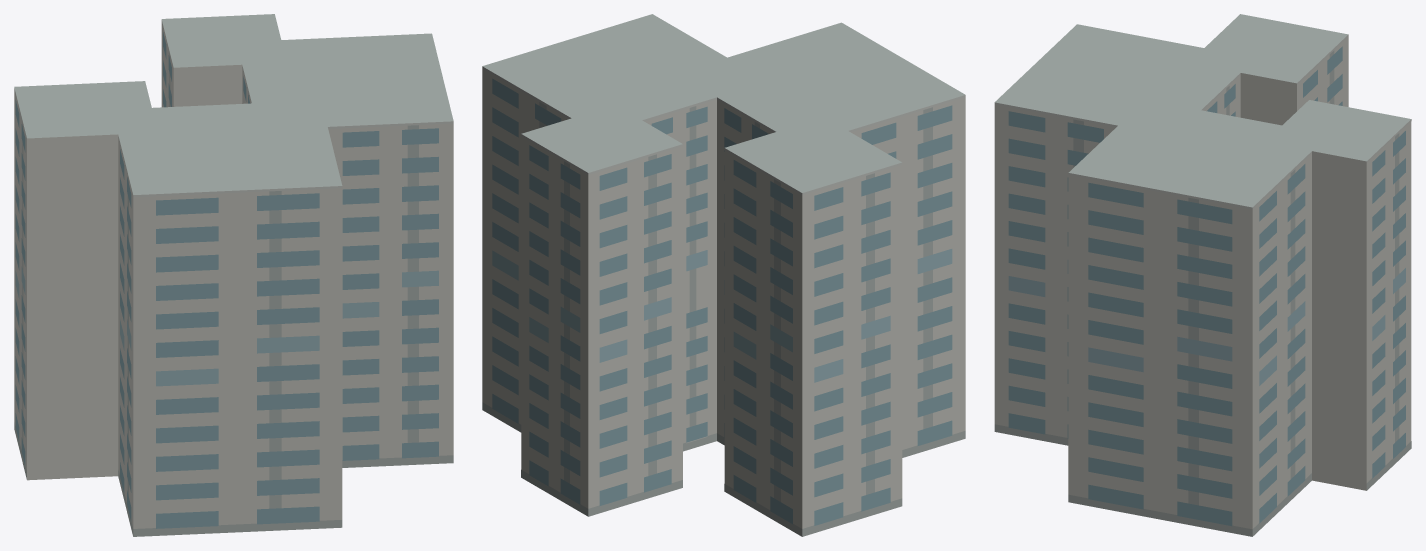
Rendered from residential-6af18a1a-1f4b-40ea-b218-25f086b3e3f5.glb.
3 views of the same model, side by side, from view 1: azimuth 30°, elevation 25°; view 2: azimuth 150°, elevation 25°; view 3: azimuth 270°, elevation 25° (orthographic). The views are drawn at different scales.
Parts seen in each view (by area): view 1: residential-6af18a1a-1f4b-40ea-b218-25f086b3e3f5.tmp; view 2: residential-6af18a1a-1f4b-40ea-b218-25f086b3e3f5.tmp; view 3: residential-6af18a1a-1f4b-40ea-b218-25f086b3e3f5.tmp.
Boxes of the visible parts, box(x1,y1,x2,y2) form: residential-6af18a1a-1f4b-40ea-b218-25f086b3e3f5.tmp: box(14, 14, 453, 536); residential-6af18a1a-1f4b-40ea-b218-25f086b3e3f5.tmp: box(482, 14, 965, 536); residential-6af18a1a-1f4b-40ea-b218-25f086b3e3f5.tmp: box(994, 14, 1411, 536).
Size of the model in its own units: 46.61 by 37 by 42.45.
